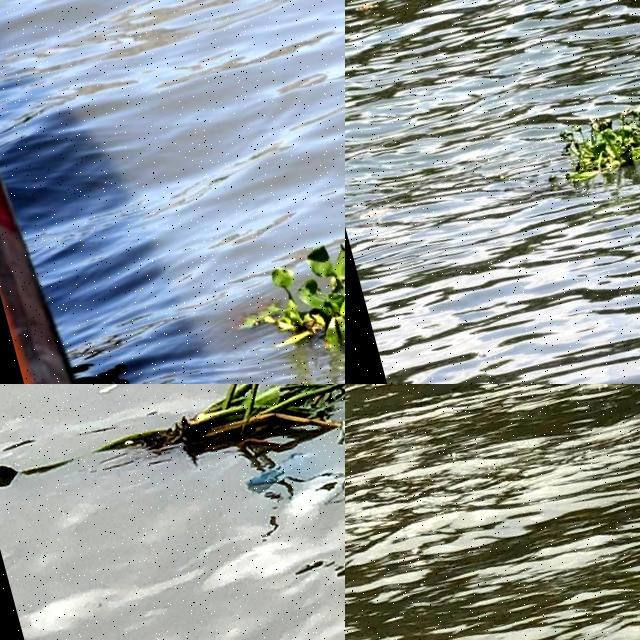water-hyacinth: (107, 385, 346, 504), (229, 223, 346, 375), (543, 64, 640, 207)
